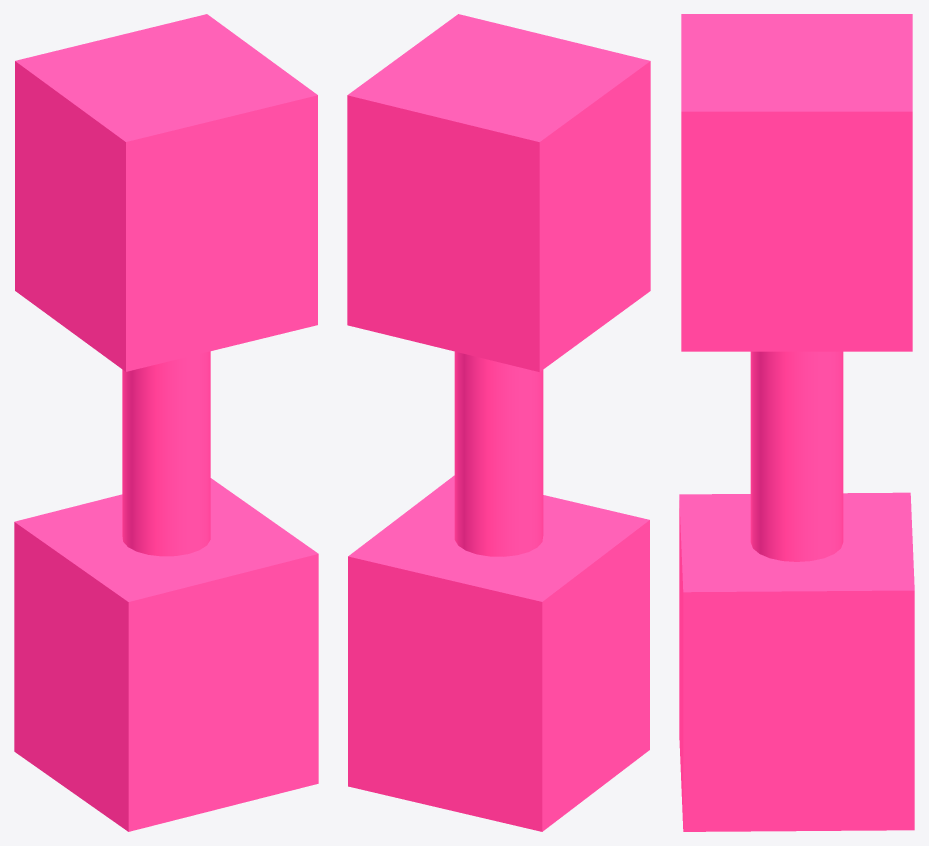
File: robot_object_pink.dae
The picture shows the model from 3 angles, left to right: view 1: azimuth 30°, elevation 25°; view 2: azimuth 150°, elevation 25°; view 3: azimuth 270°, elevation 25°; orthographic projection. The views are drawn at different scales.
Parts seen in each view (by area): view 1: dumbell; view 2: dumbell; view 3: dumbell.
Boxes of the visible parts, bbox=[...] form: dumbell: bbox=[14, 14, 318, 831]; dumbell: bbox=[347, 14, 650, 831]; dumbell: bbox=[679, 14, 914, 831].
Size of the model in its own units: 4.52 by 15.24 by 4.52.
